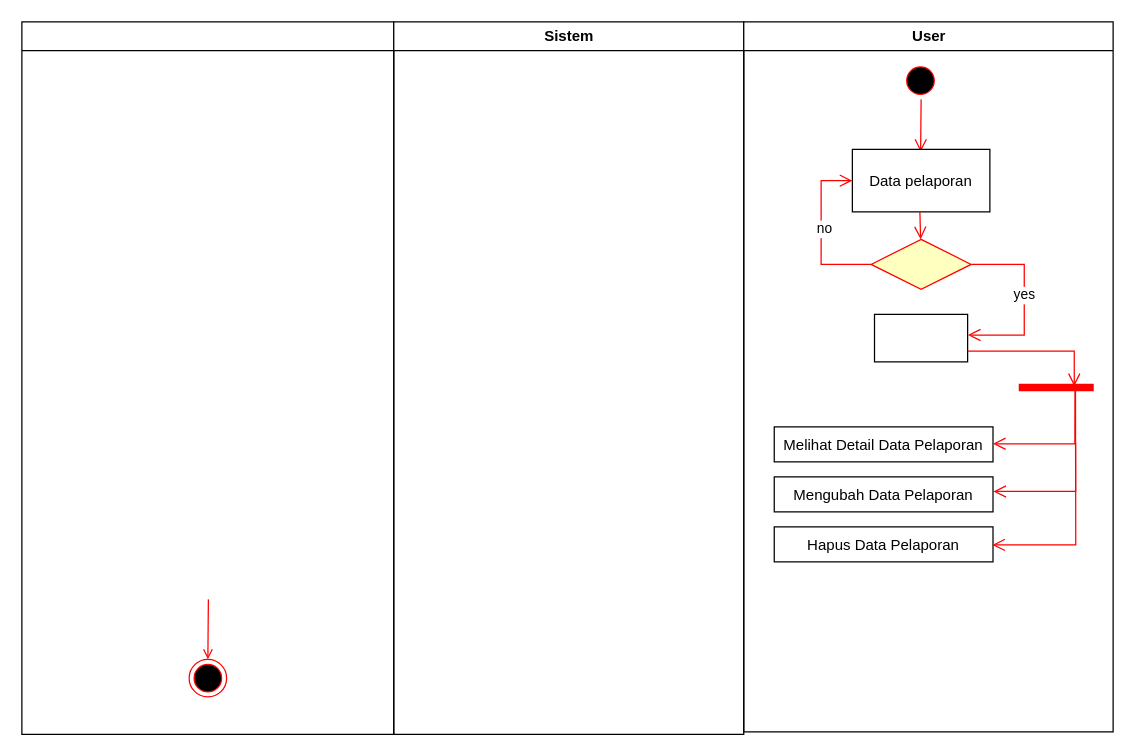
Some shapes in this 1135 by 756 pixel diagram are drawn without their labels. The shapes that lost their labels are listed below. From the top down, each one's box as (x1, y1, x2, y2) in pixels, then its label:
(870, 238, 971, 289): Login
(873, 313, 968, 362): Entry Data
(21, 21, 394, 734): Database
